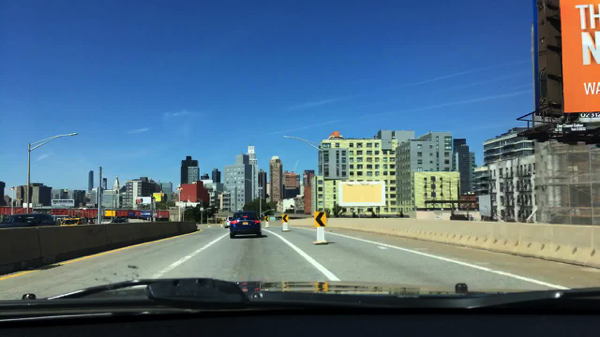car: (229, 210, 262, 239), (0, 212, 59, 228), (59, 218, 85, 225), (223, 217, 235, 229), (111, 217, 130, 223), (79, 204, 90, 209)
traffic sign: (313, 210, 327, 228), (281, 214, 289, 221), (264, 216, 270, 222), (198, 207, 204, 213)
train: (0, 208, 170, 220)
